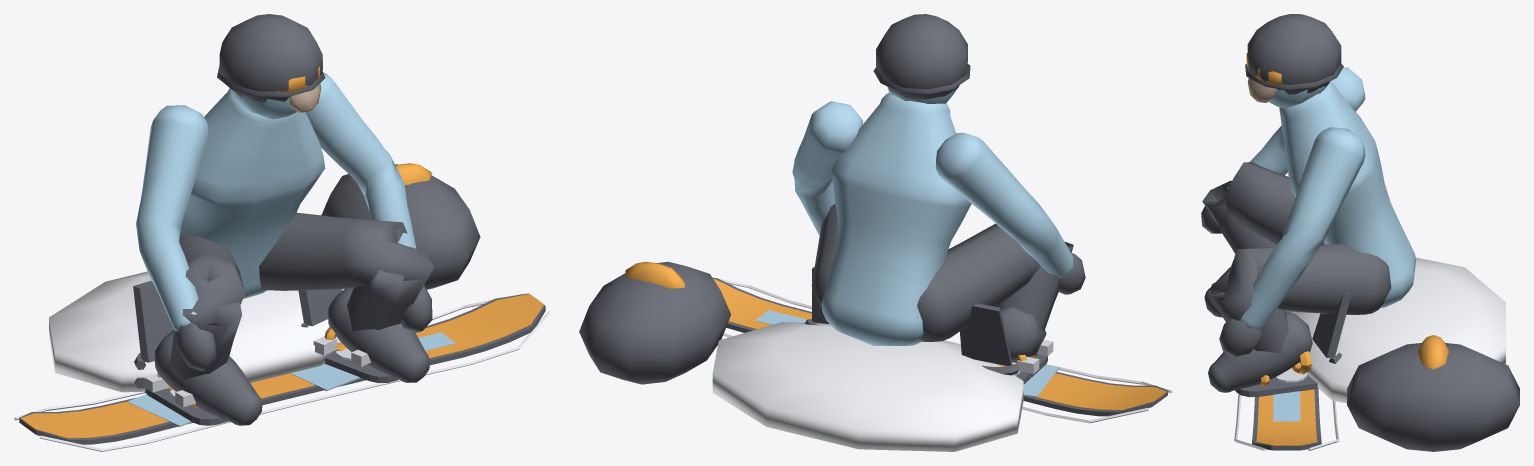
The model's file is backcountry-snowboarding-and-avalanche-safety-rider-se-7222e58f__18919.glb.
The picture shows the model from 3 angles, left to right: view 1: azimuth 30°, elevation 25°; view 2: azimuth 150°, elevation 25°; view 3: azimuth 270°, elevation 25°; orthographic projection. The views are drawn at different scales.
Visible parts, largest first — view 1: rider-seated-strapping-in; view 2: rider-seated-strapping-in; view 3: rider-seated-strapping-in.
Boxes of the visible parts, left/top/right/bottom form: rider-seated-strapping-in: left=14, top=14, right=550, bottom=451; rider-seated-strapping-in: left=579, top=14, right=1172, bottom=451; rider-seated-strapping-in: left=1201, top=14, right=1519, bottom=451.
Size of the model in its own units: 1.55 by 1.1 by 0.9127.
